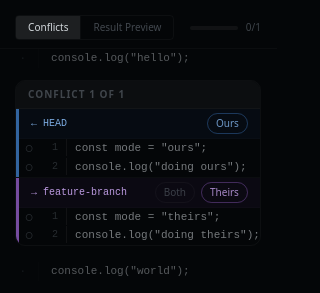
Test: ConflictHunkPicker › allows toggling full-file Result Preview tab
The width and height of the screenshot is (320, 293).
Expected: the text "Conflict 1 of 1" is shown, [28, 87, 125, 102]
Expected: the text "⚠ Conflict 1 — not yet resolved" is not shown
// Click the "Result Preview" tab
Click the button "Result Preview" at (127, 28), box [80, 16, 173, 39]
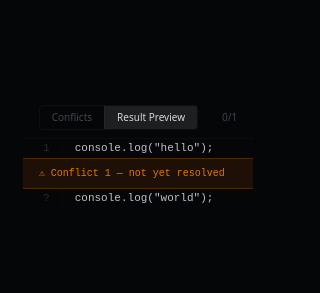
Expected: the text "console.log(\"hello\");" is shown, [63, 139, 213, 158]
Result: the text "⚠ Conflict 1 — not yet resolved" is shown at [23, 158, 253, 188]
